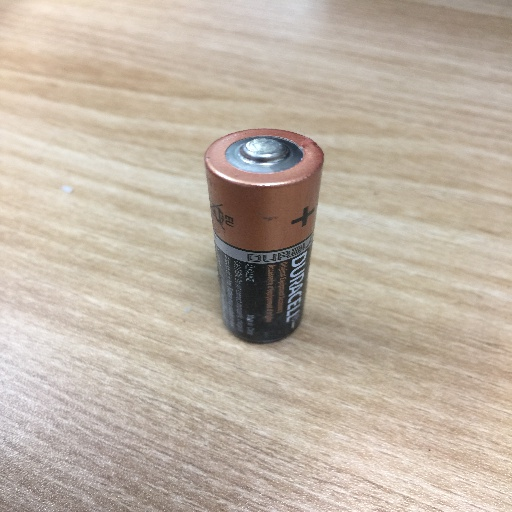Battery_0: (202, 112, 340, 363)
